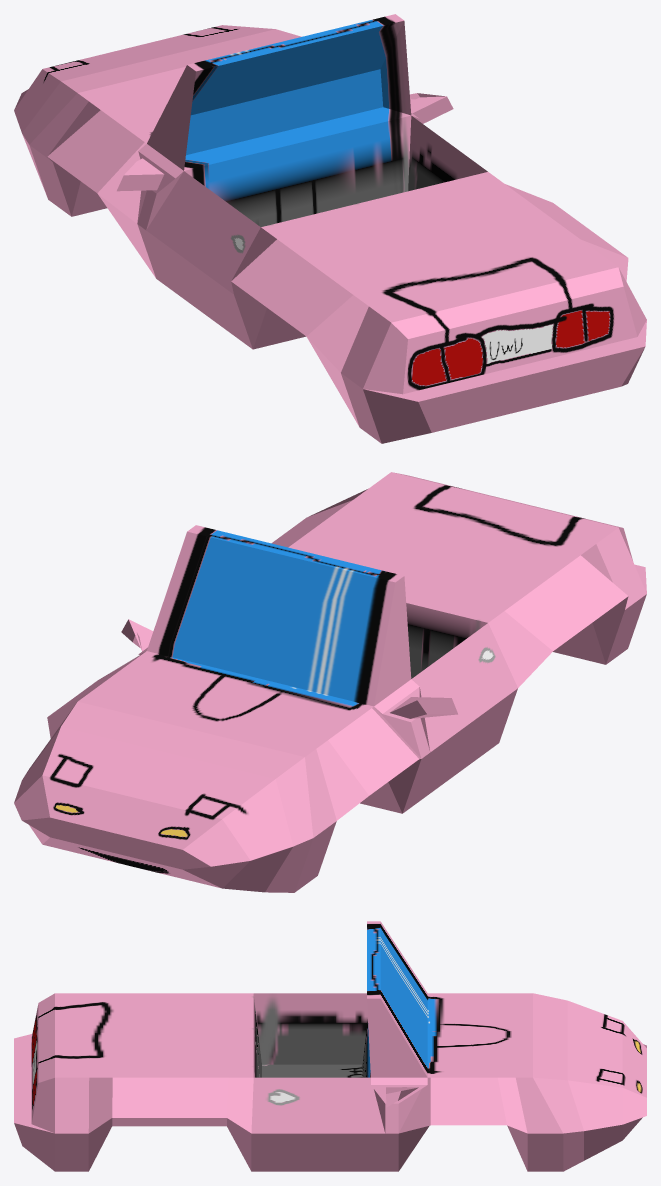
File: cabrio.fbx
3 views of the same model, one above another, from view 1: azimuth 30°, elevation 25°; view 2: azimuth 150°, elevation 25°; view 3: azimuth 270°, elevation 25° (orthographic). The views are drawn at different scales.
Visible parts, largest first — view 1: Cube.001; view 2: Cube.001; view 3: Cube.001.
Part boxes in pixels (left/top/right/bottom): Cube.001: left=14, top=14, right=646, bottom=443; Cube.001: left=14, top=472, right=646, bottom=892; Cube.001: left=14, top=921, right=646, bottom=1171.
Size of the model in its own units: 356 by 220 by 760.
